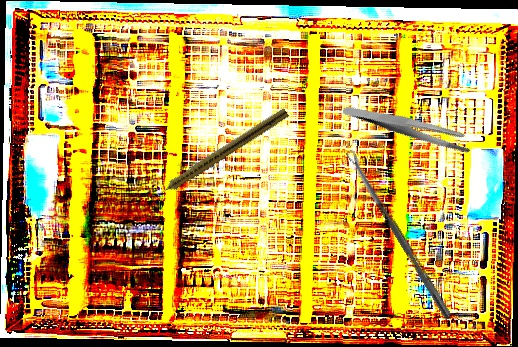Dressing Forceps: (341, 74, 476, 180)
Handpiece: (151, 104, 290, 202)
Surgical Spoon: (345, 148, 454, 321)
